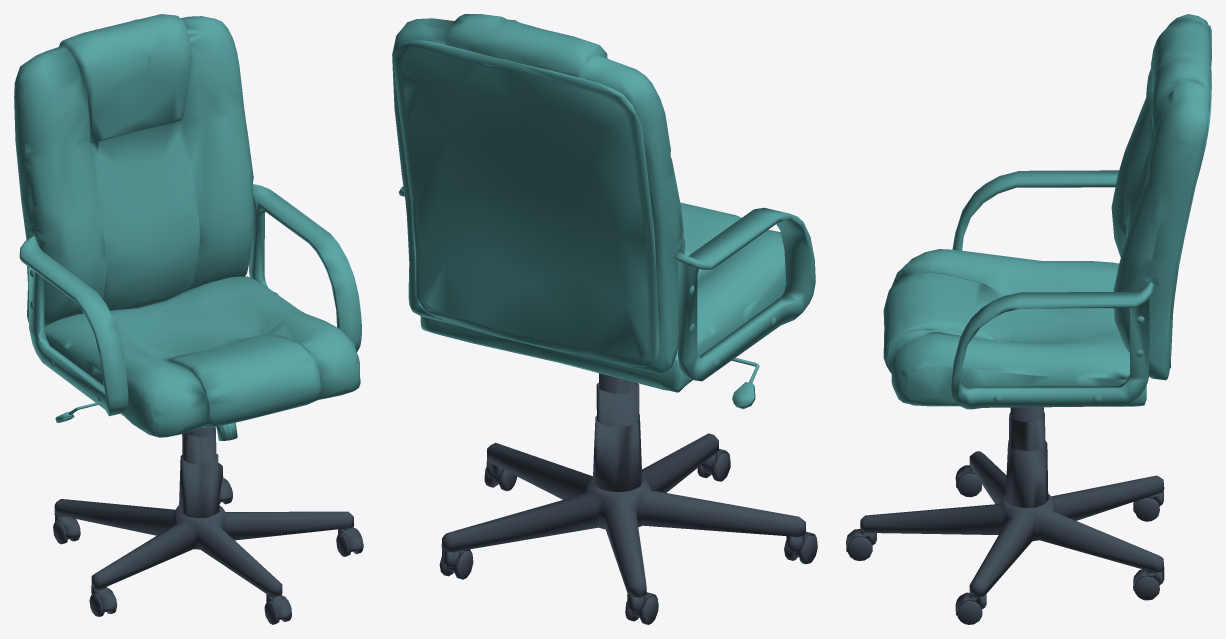
Rendered from office_chair.glb.
The picture shows the model from 3 angles, left to right: view 1: azimuth 30°, elevation 25°; view 2: azimuth 150°, elevation 25°; view 3: azimuth 270°, elevation 25°; orthographic projection. The views are drawn at different scales.
Parts seen in each view (by area): view 1: NVIDIA_OfficeChair; view 2: NVIDIA_OfficeChair; view 3: NVIDIA_OfficeChair.
Boxes of the visible parts, x1,y1,x2,y2 form: NVIDIA_OfficeChair: (14,14,363,624); NVIDIA_OfficeChair: (392,14,817,624); NVIDIA_OfficeChair: (846,14,1211,624).
Bounding box in the file's own units: 0.7127 × 1.25 × 0.8084.
